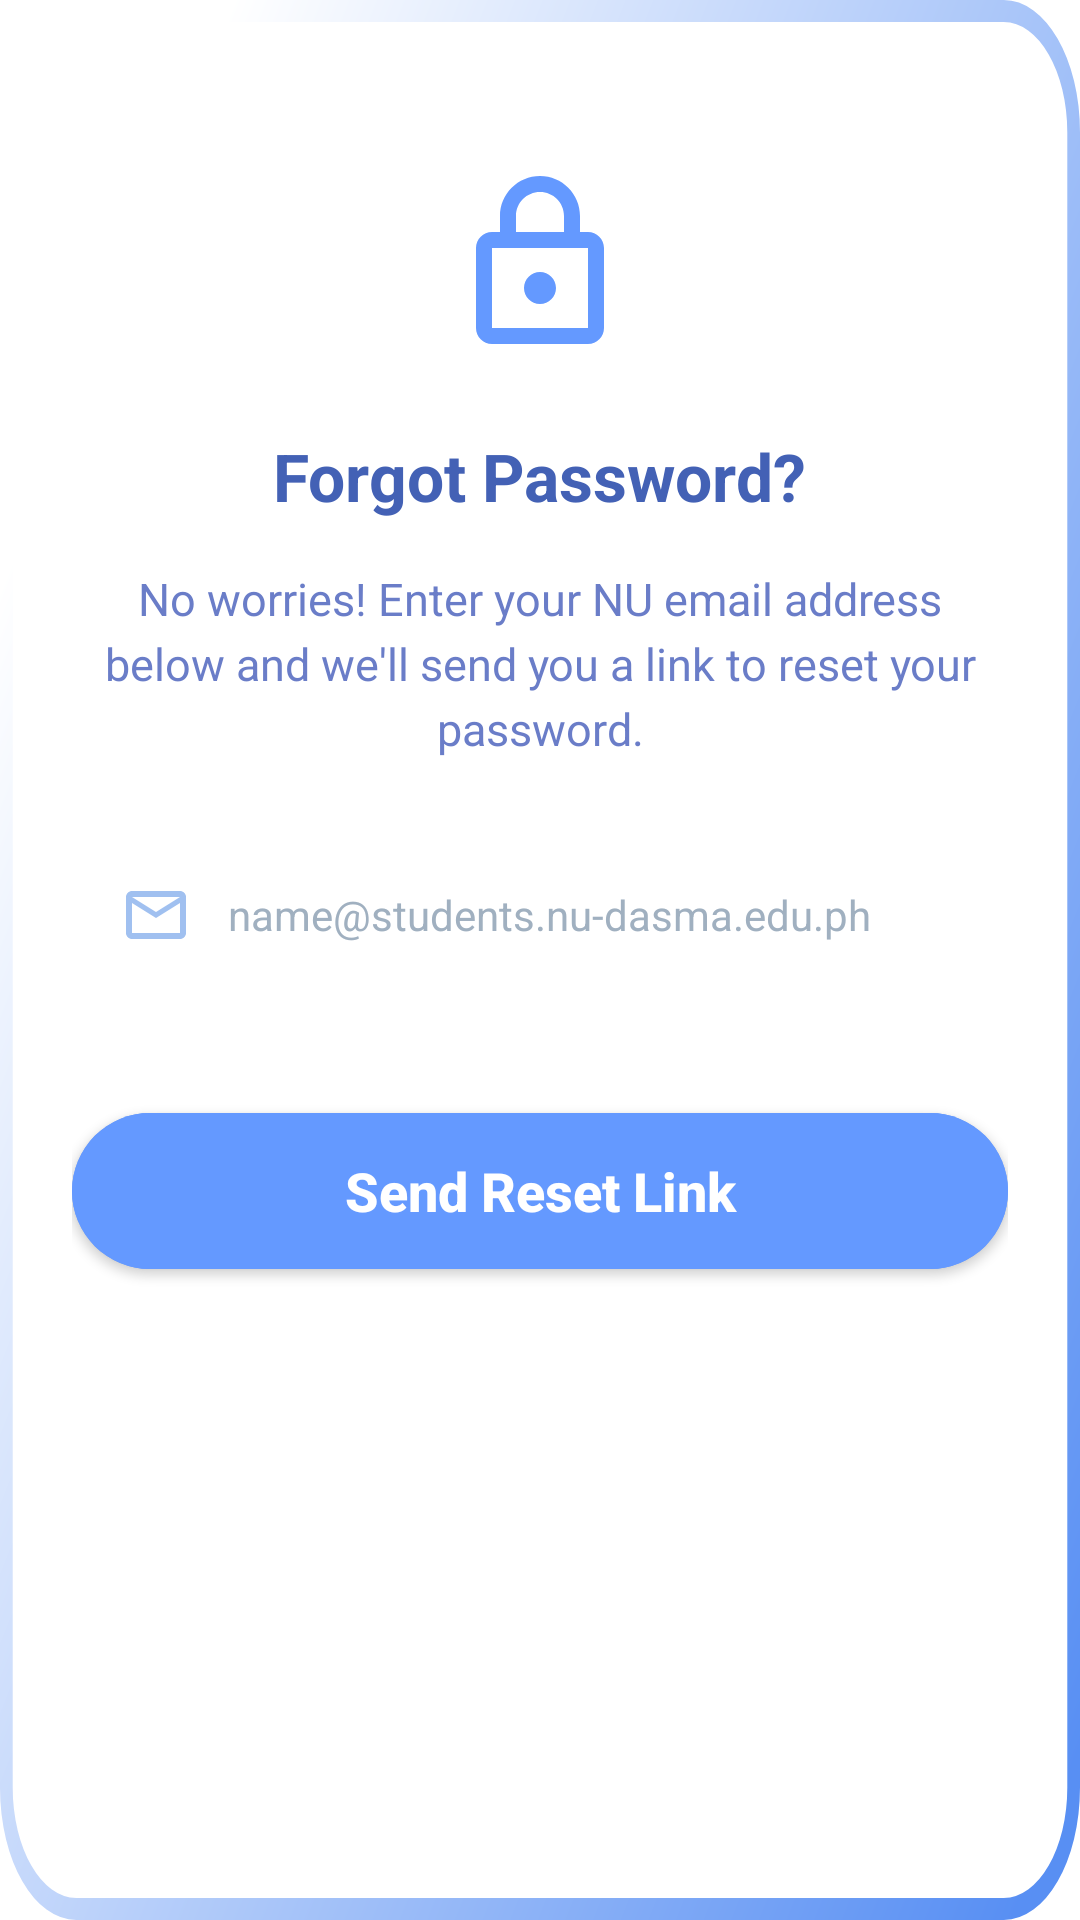

Icons on this 1080 × 1920 Android screen, each with its box as box(x1, y1, x2, y2):
lock: box(476, 176, 604, 344)
